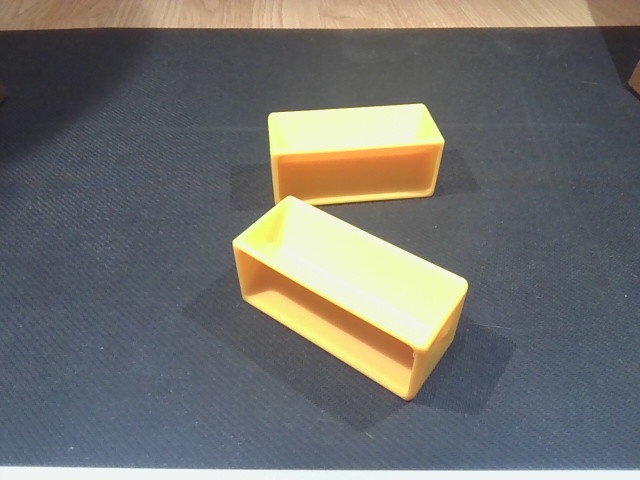YellowSample: (229, 190, 470, 407), (255, 104, 453, 207)
